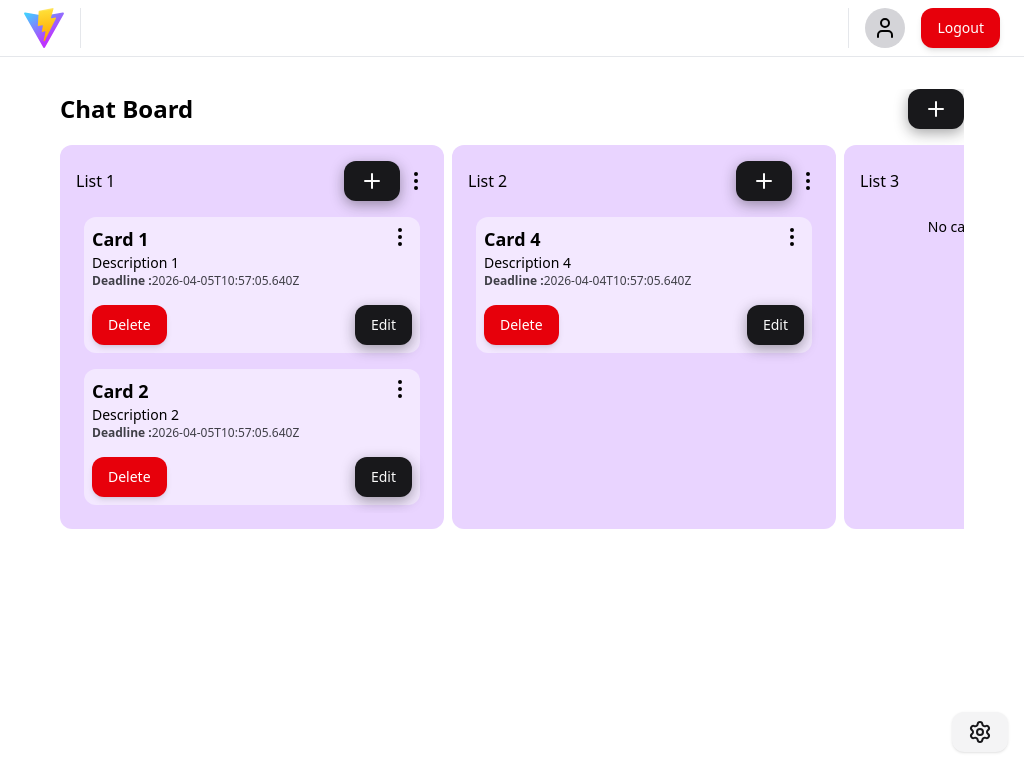
Test: Editing the list and the card content › Should edit the list content
Check: the heading "Chat Board" is shown, box [60,93,193,125]
Check: the element named "Board Content" shows "List 1", box [76,170,115,192]
Click the button named "options" in the row of "List 1" at (416, 181), box [404,161,428,201]
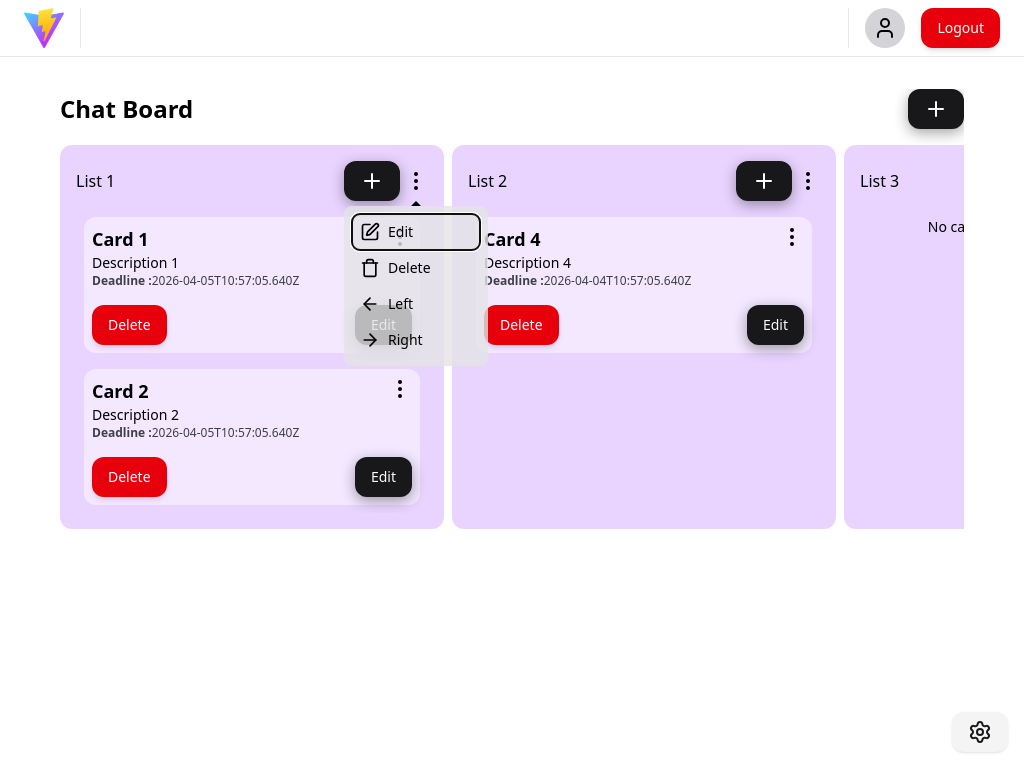
Click the 1st button "Edit" at (416, 232), box [352,214,480,250]
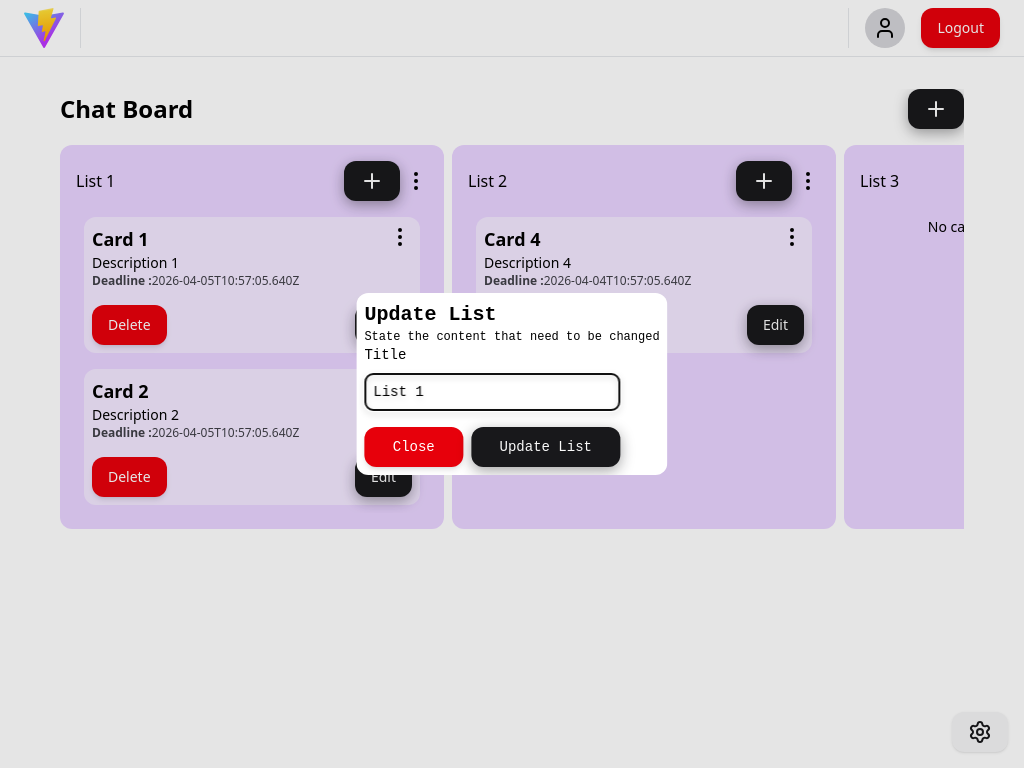
Replace the text in the field labelled "Title" with "Updated List" at (492, 392), box [364,373,620,411]
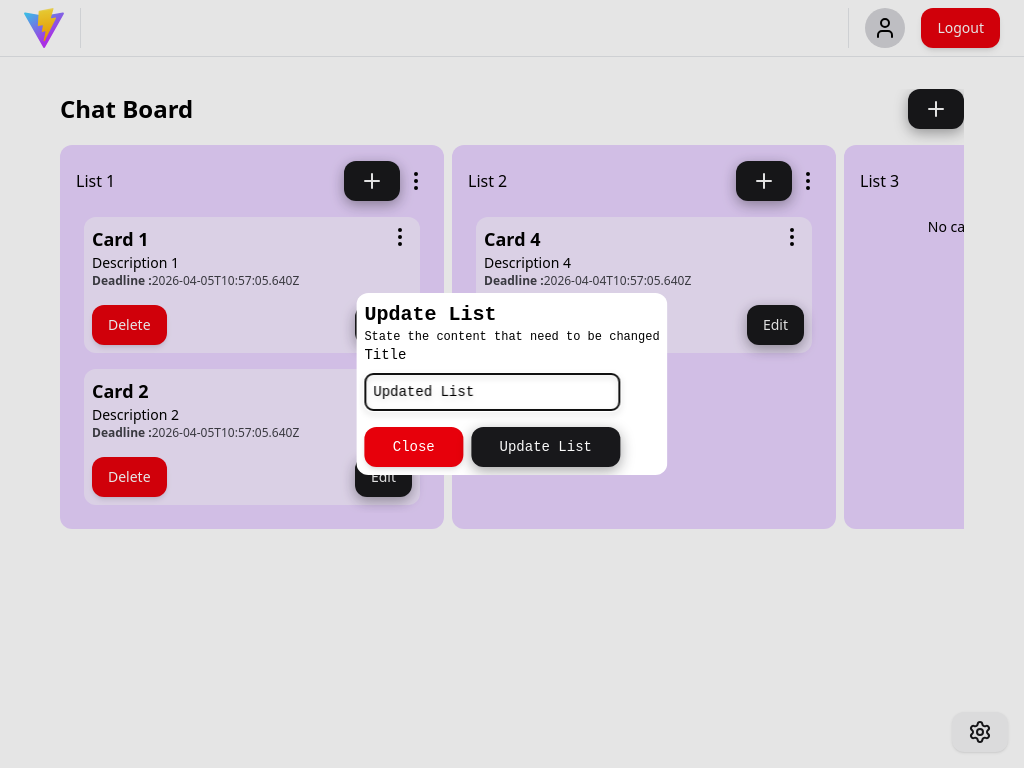
Click the button with aria-label "form-operation-button" at (546, 447), box [471,427,620,467]
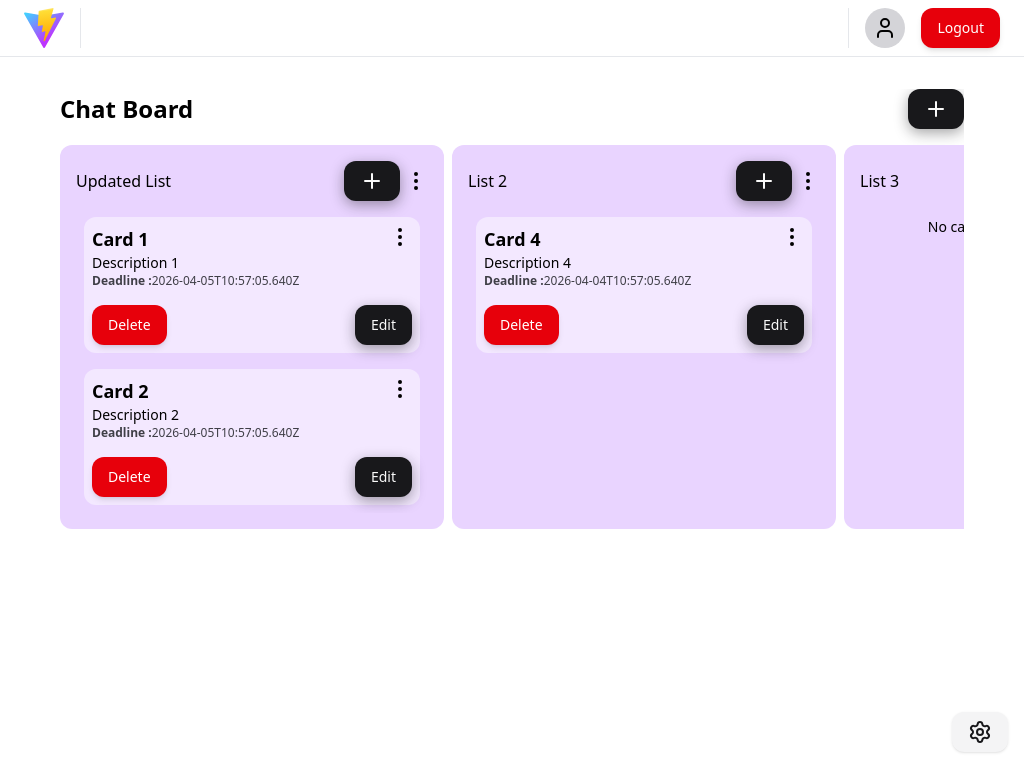
Check: the number of elements named "list-content" is 3
Check: the heading "Updated List" is shown, box [76,169,171,193]
